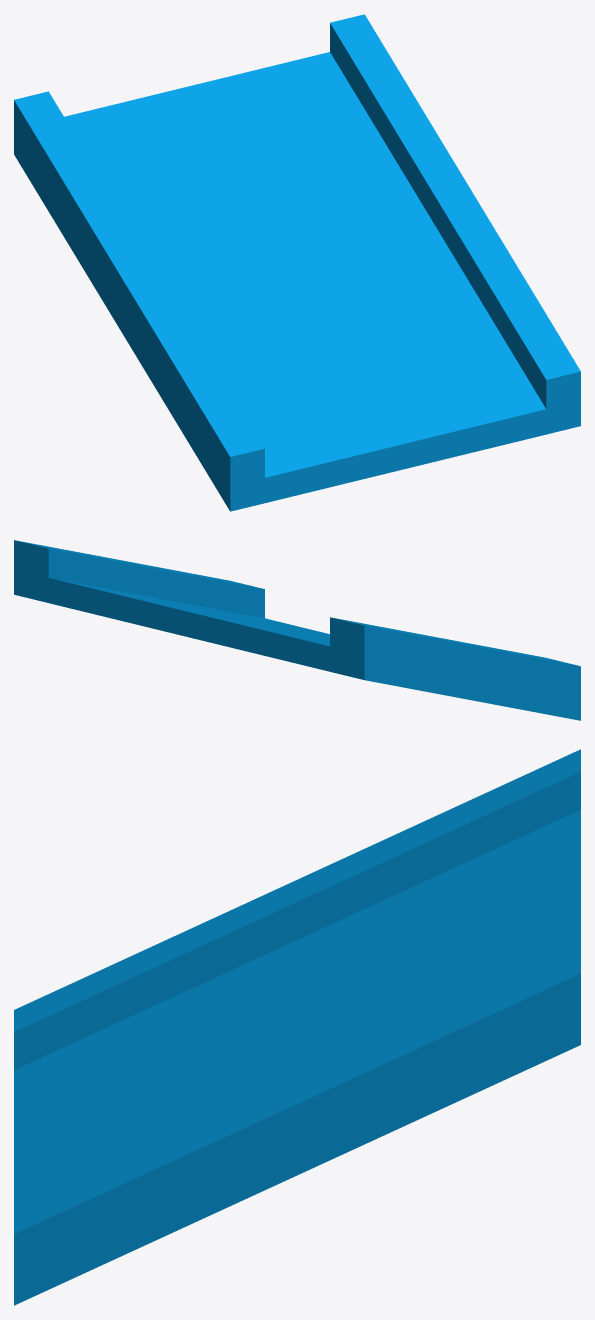
Rendered from Bridge_03.fbx.
3 renders of one model, top to bottom at view 1: azimuth 30°, elevation 25°; view 2: azimuth 150°, elevation 25°; view 3: azimuth 270°, elevation 25°, orthographic. The views are drawn at different scales.
Visible parts, largest first — view 1: Bridge_03; view 2: Bridge_03; view 3: Bridge_03.
Part boxes in pixels (left/top/right/bottom): Bridge_03: left=14, top=14, right=580, bottom=511; Bridge_03: left=14, top=540, right=580, bottom=720; Bridge_03: left=14, top=749, right=580, bottom=1305.
Size of the model in its own units: 15.31 by 10.58 by 16.36.
